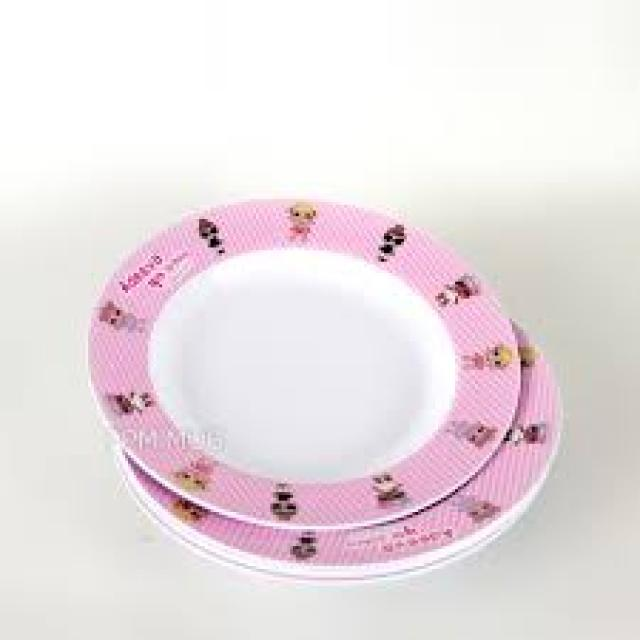Plate: (80, 176, 580, 604)
